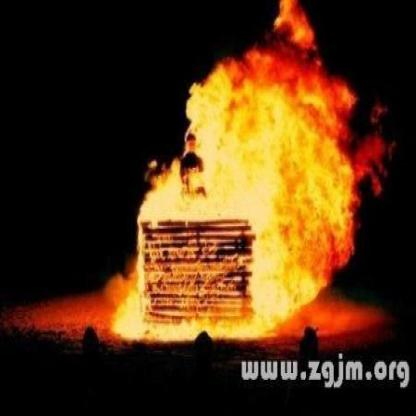fire: (104, 0, 386, 340)
